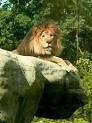lion: (16, 25, 76, 74)
